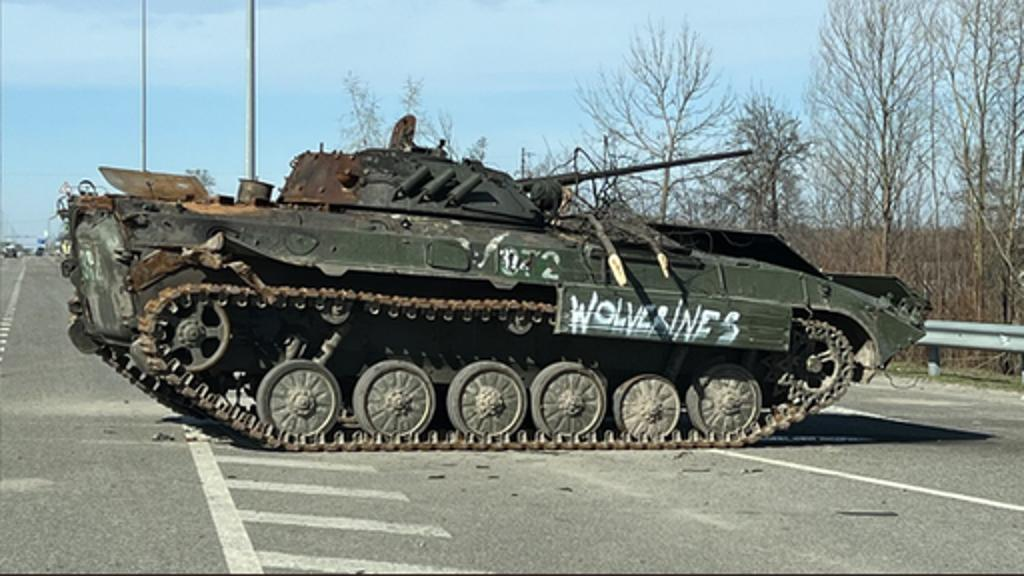APC-IFV: (46, 96, 934, 470)
